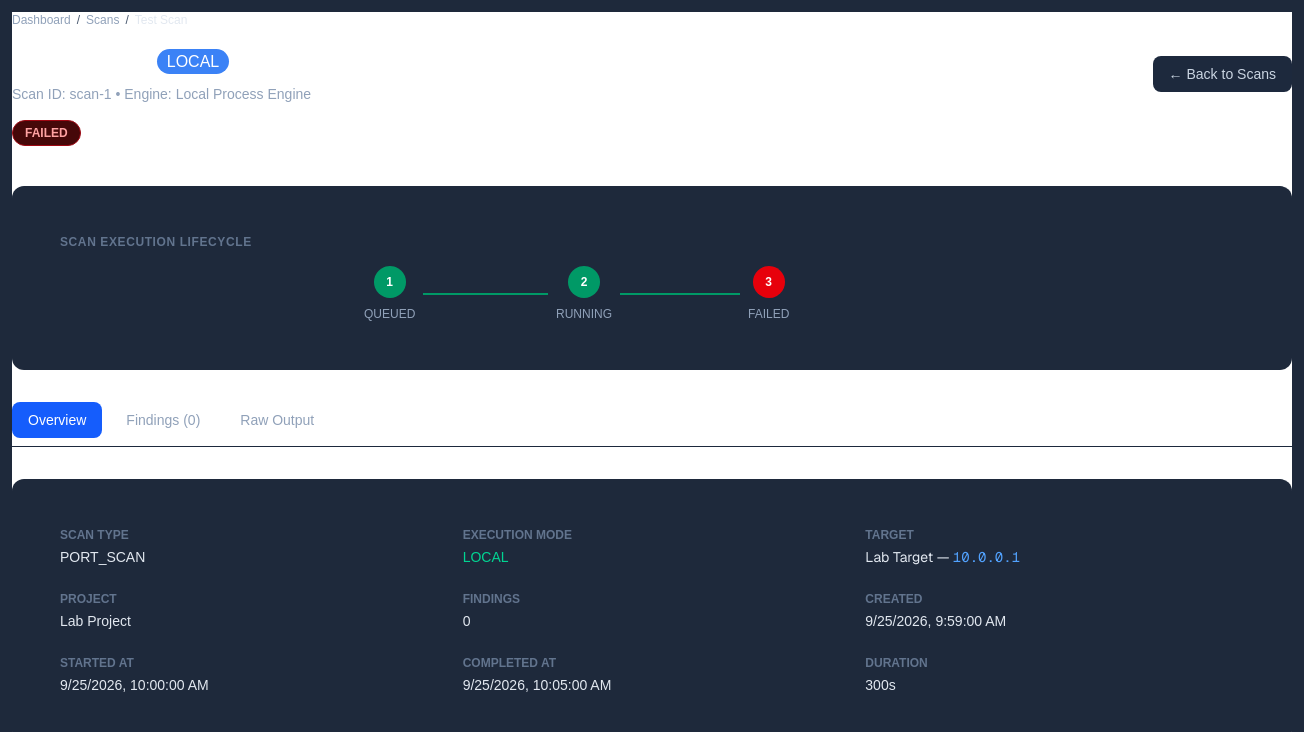
Test: ScanDetailPage failed-scan findings messaging › does not promise findings after completion for a FAILED scan
The width and height of the screenshot is (1304, 732).
Step 1. Click the button "Findings (0)" → [163, 420], box [110,402,216,438]
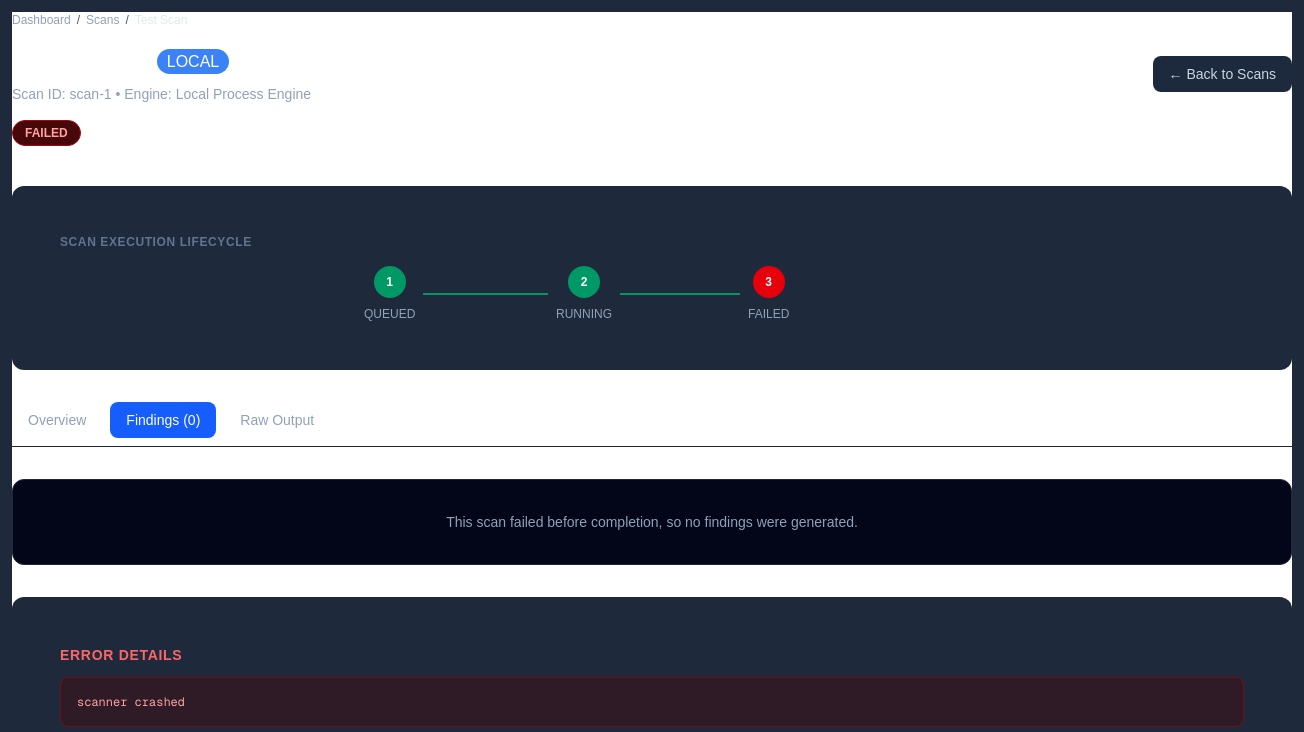
Now the text "This scan failed before completion, so no findings were generated." is shown, box [446,514,858,530]
